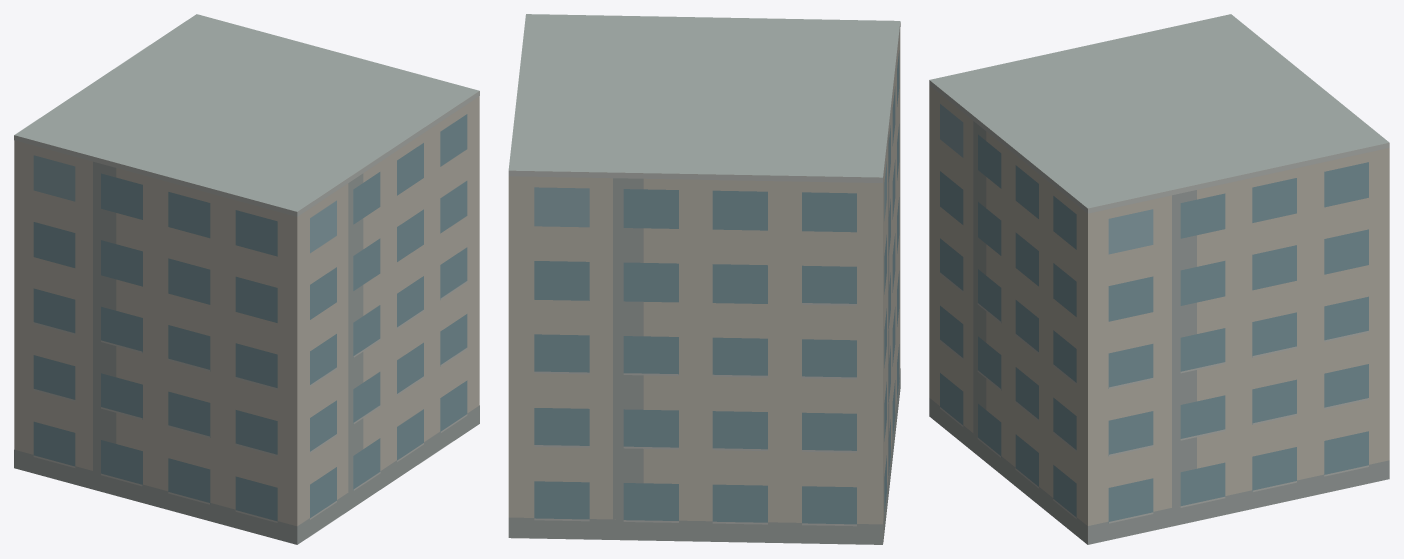
Rendered from survey-upis-32871484.glb.
3 renders of one model, left to right at view 1: azimuth 30°, elevation 25°; view 2: azimuth 150°, elevation 25°; view 3: azimuth 270°, elevation 25°, orthographic. The views are drawn at different scales.
Parts seen in each view (by area): view 1: survey-upis-32871484.tmp; view 2: survey-upis-32871484.tmp; view 3: survey-upis-32871484.tmp.
Boxes of the visible parts, x1,y1,x2,y2 form: survey-upis-32871484.tmp: (14, 14, 479, 544); survey-upis-32871484.tmp: (508, 14, 900, 544); survey-upis-32871484.tmp: (929, 14, 1389, 544).
Size of the model in its own units: 19.73 by 15.9 by 19.73.
